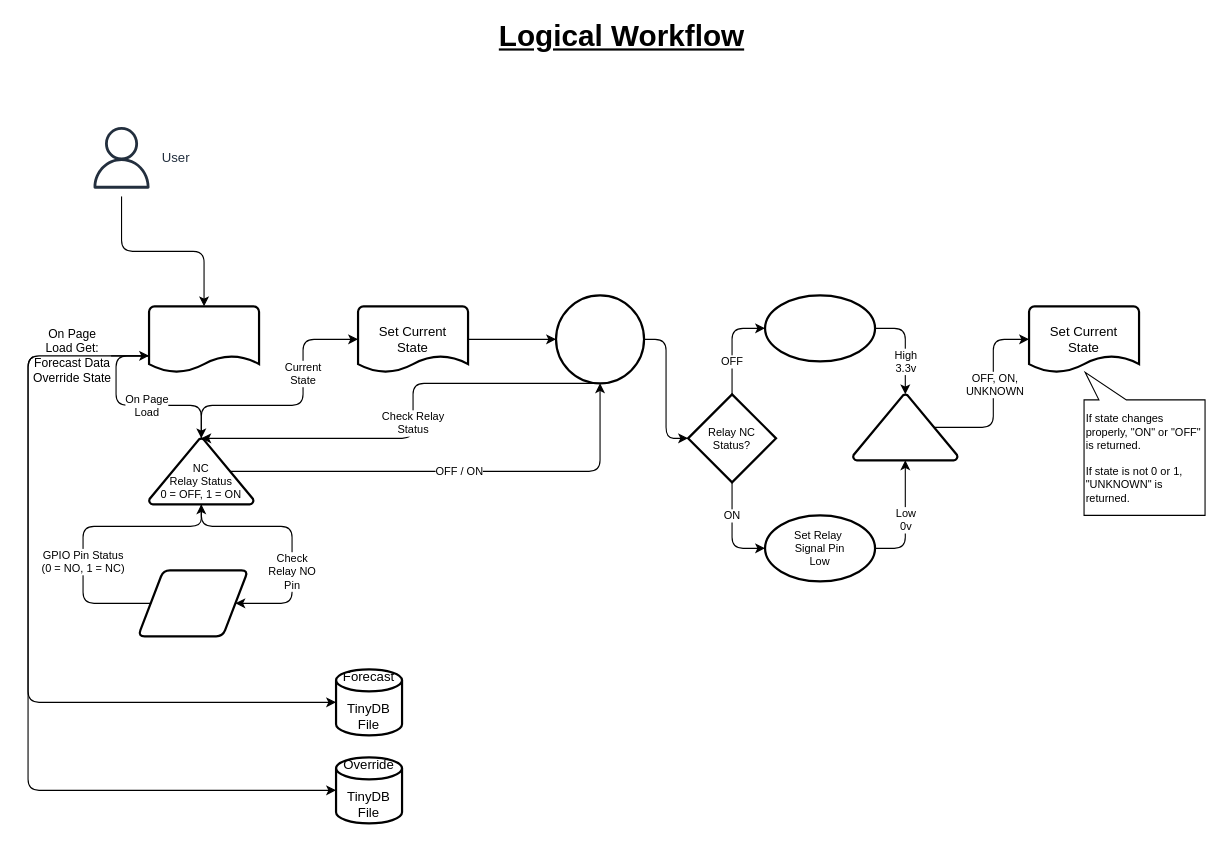
The diagram is 1224 pixels wide and 843 high, and some of its shapes have lost their labels. Each missing label, with the centre of its shape:
"Click On/Off Button" goes at point 599,339.
"GPIO" goes at point 192,603.
"Set Relay Signal Pin" goes at point 904,427.
"Set Relay Signal Pin High" goes at point 819,328.
"Webpage" goes at point 203,339.
